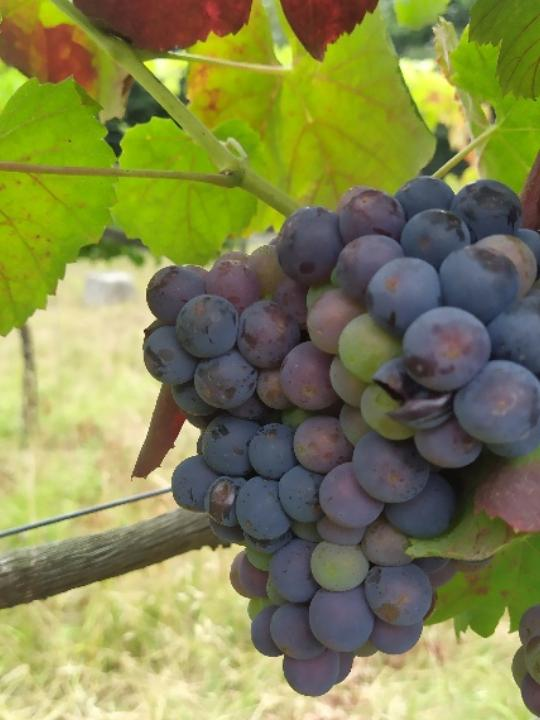grape: (134, 171, 540, 702)
